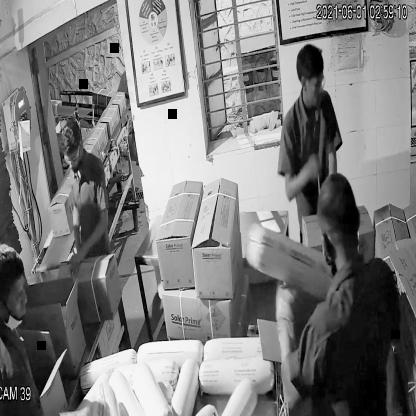goggles: (61, 144, 84, 171)
